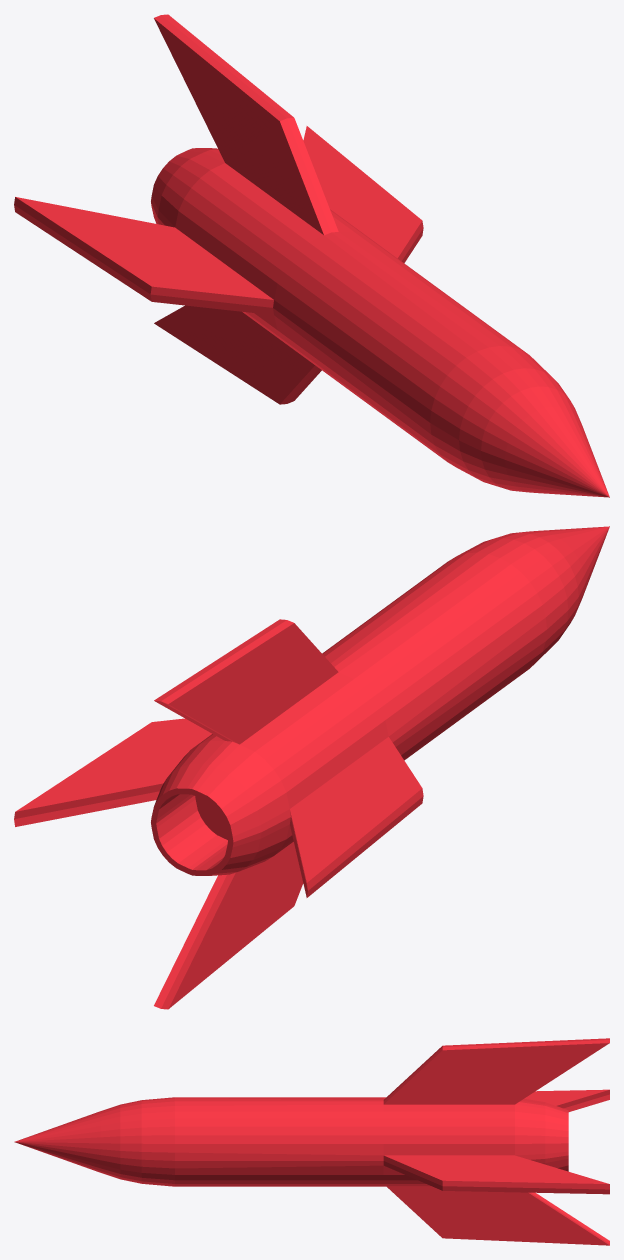
File: rocket.obj
3 renders of one model, top to bottom at view 1: azimuth 30°, elevation 25°; view 2: azimuth 150°, elevation 25°; view 3: azimuth 270°, elevation 25°, orthographic. The views are drawn at different scales.
Visible parts, largest first — view 1: Cylinder.001; view 2: Cylinder.001; view 3: Cylinder.001.
Boxes of the visible parts, x1=… form: Cylinder.001: x1=14, y1=14, x2=609, y2=497; Cylinder.001: x1=14, y1=526, x2=609, y2=1009; Cylinder.001: x1=14, y1=1038, x2=609, y2=1245.
Bounding box in the file's own units: 0.4801 × 0.4801 × 1.27.
Materials: 1 (1 with a texture image).
